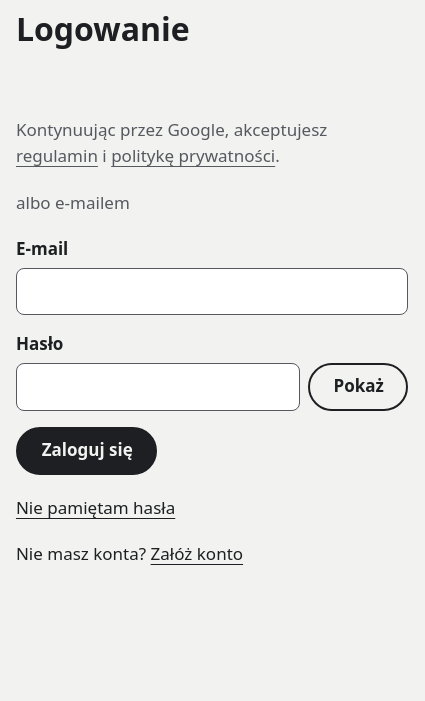
login page › offers adding a password to an account created with Google
The image size is (425, 701).
Type "ola@example.com" into the field labelled "E-mail".
click(212, 291); type("ola@example.com")  # box [16,268,408,315]
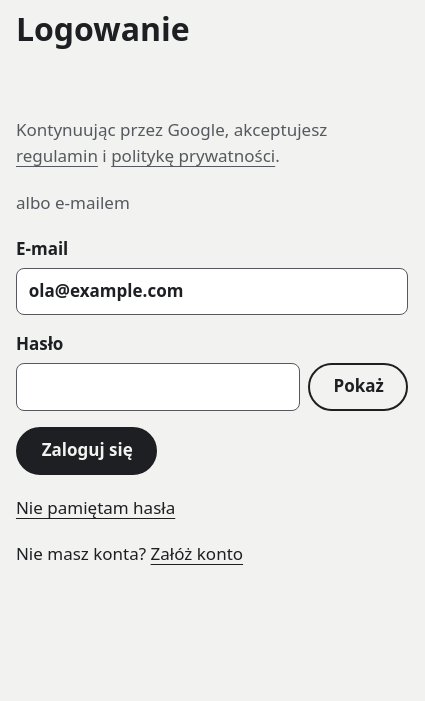
Type "dlugie-haslo-123" into the password field labelled "Hasło".
click(158, 387); type("dlugie-haslo-123")  # box [16,363,300,411]
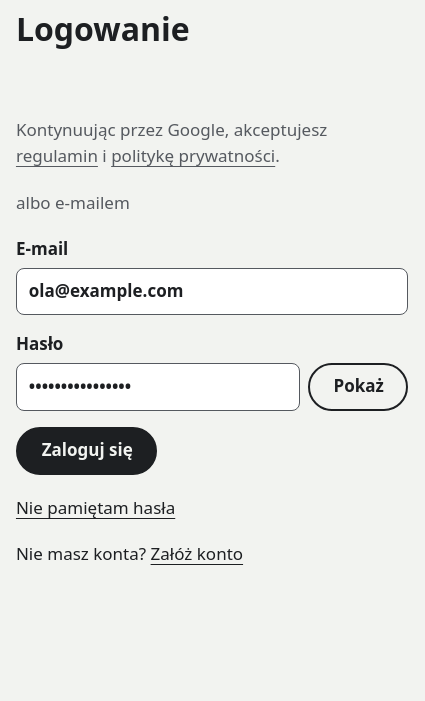
Submit the form, box [16,236,408,475]
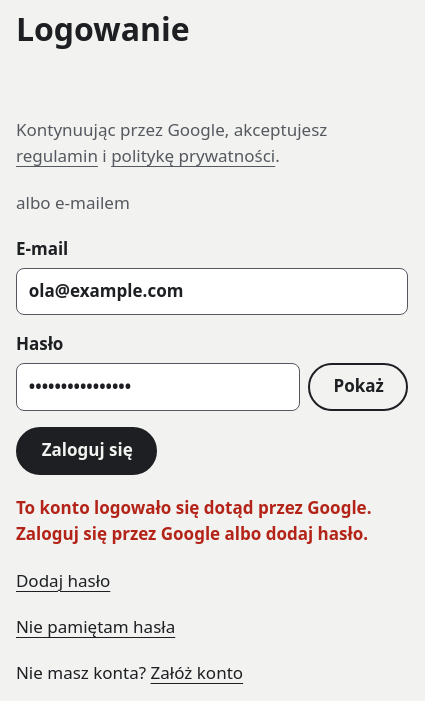
Check: the message shows "To konto logowało się dotąd przez Google. Zaloguj się przez Google albo dodaj hasło.", box [16,496,372,545]
